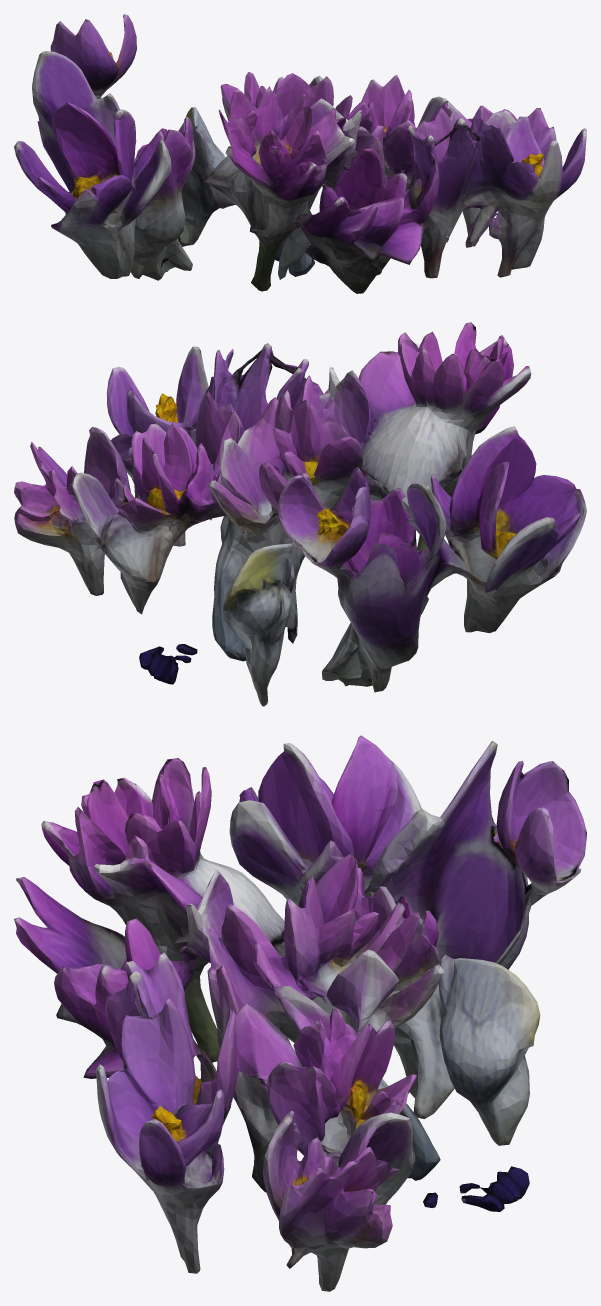
The model's file is prostrel.glb.
3 views of the same model, one above another, from view 1: azimuth 30°, elevation 25°; view 2: azimuth 150°, elevation 25°; view 3: azimuth 270°, elevation 25° (orthographic). The views are drawn at different scales.
Size of the model in its own units: 100 by 49.3 by 74.1.
Materials: 1 (1 with a texture image).
